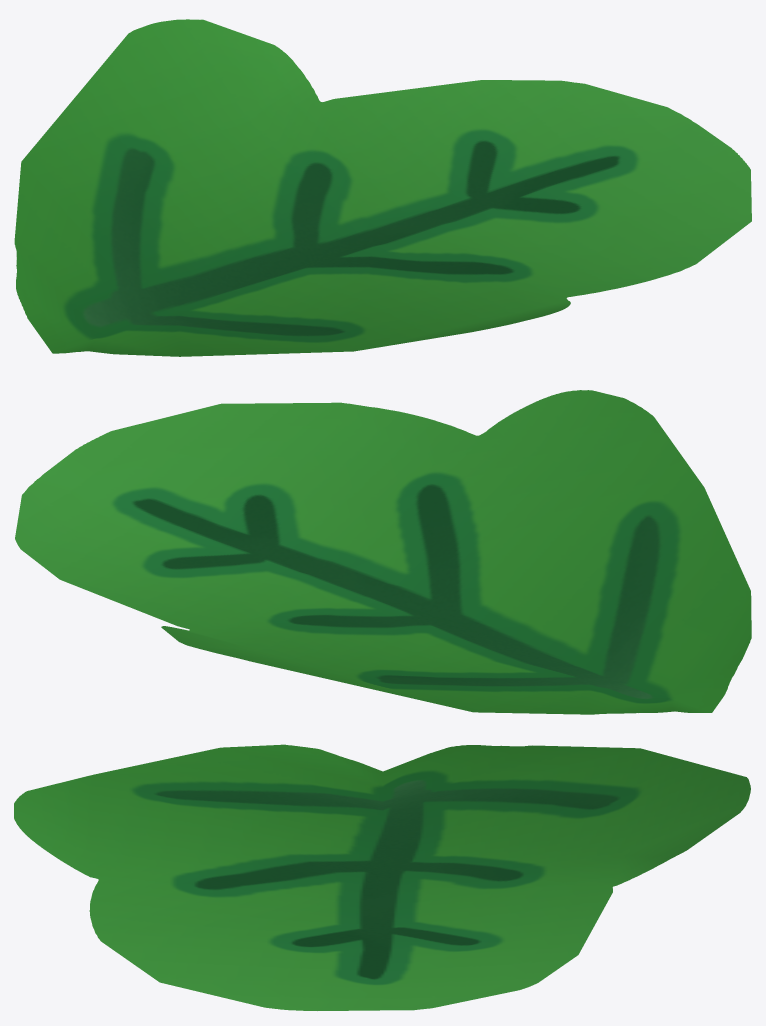
Rendered from SaladLeave.fbx.
The picture shows the model from 3 angles, top to bottom: view 1: azimuth 30°, elevation 25°; view 2: azimuth 150°, elevation 25°; view 3: azimuth 270°, elevation 25°; orthographic projection. The views are drawn at different scales.
Parts seen in each view (by area): view 1: GEOSaladLeave; view 2: GEOSaladLeave; view 3: GEOSaladLeave.
Part boxes in pixels (left/top/right/bottom): GEOSaladLeave: left=14, top=19, right=751, bottom=356; GEOSaladLeave: left=15, top=390, right=751, bottom=714; GEOSaladLeave: left=14, top=744, right=750, bottom=1010.
Bounding box in the file's own units: 165 × 30.17 × 165.
